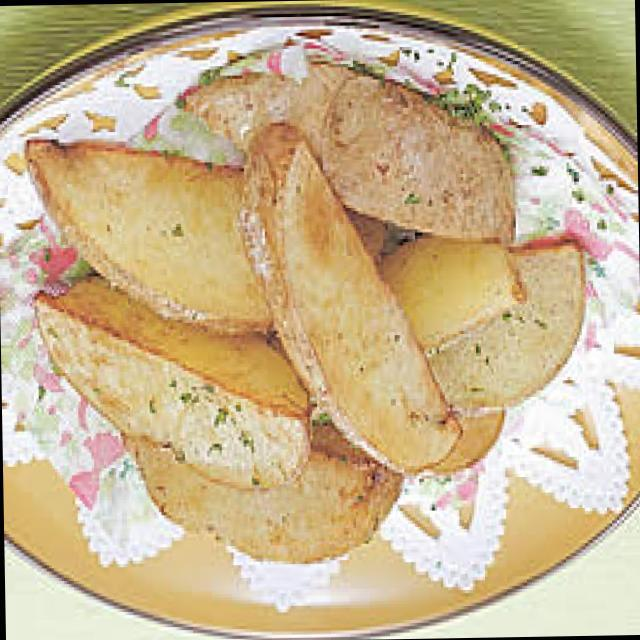French Fries: (33, 89, 574, 578)
